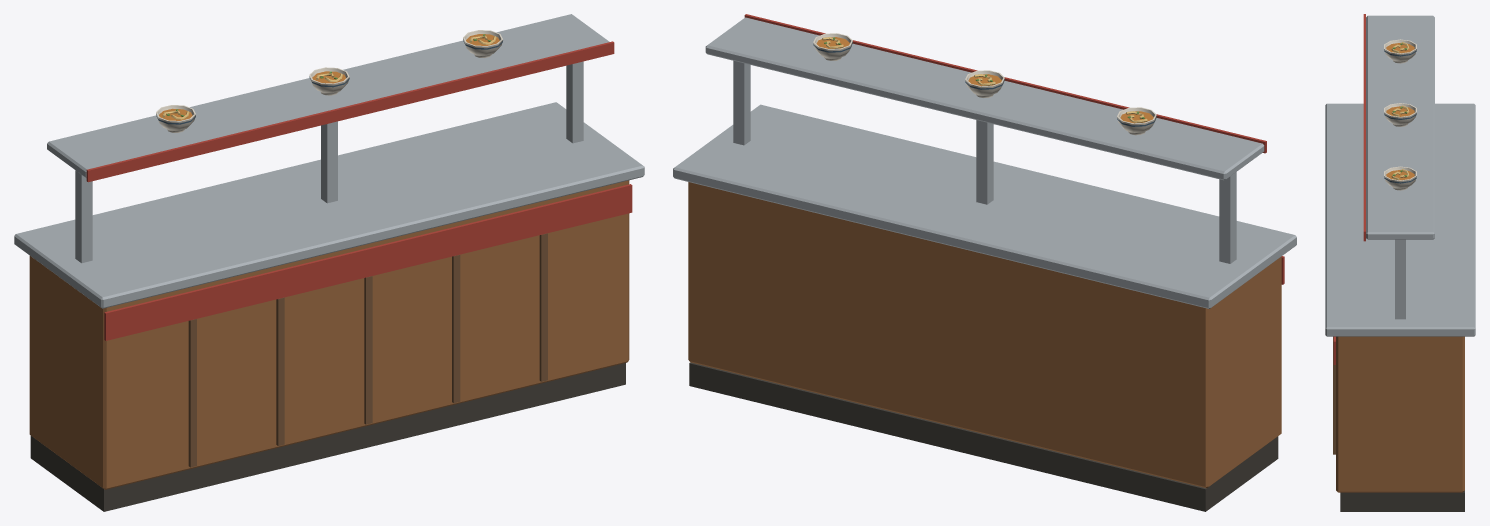
The model's file is counter_noodle.glb.
The picture shows the model from 3 angles, left to right: view 1: azimuth 30°, elevation 25°; view 2: azimuth 150°, elevation 25°; view 3: azimuth 270°, elevation 25°; orthographic projection. The views are drawn at different scales.
Parts seen in each view (by area): view 1: counter_noodle; view 2: counter_noodle; view 3: counter_noodle.
Boxes of the visible parts, x1,y1,x2,y2 form: counter_noodle: (14, 14, 644, 511); counter_noodle: (673, 14, 1296, 511); counter_noodle: (1325, 14, 1475, 511).
Bounding box in the file's own units: 2.48 × 1.51 × 0.7.
